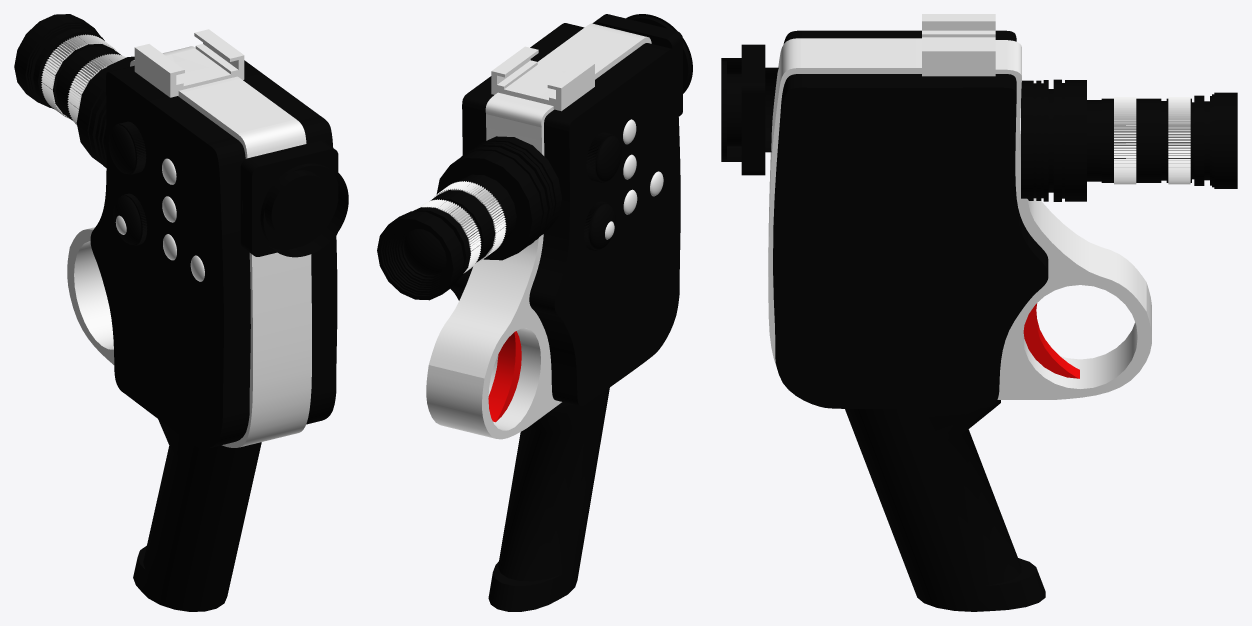
The model's file is camera.glb.
3 renders of one model, left to right at view 1: azimuth 30°, elevation 25°; view 2: azimuth 150°, elevation 25°; view 3: azimuth 270°, elevation 25°, orthographic. The views are drawn at different scales.
Parts seen in each view (by area): view 1: Line002, Line001, Cylinder001, Rectangle001, Line003, Line006, Line005, Star002, Star001, Sphere006, Sphere007, Star003; view 2: Line002, Line001, Cylinder001, Line003, Line006, Line004, Rectangle001, Sphere001, Star001, Star002, Sphere006, Sphere007 (+2 smaller); view 3: Line002, Cylinder001, Line001, Line003, Line006, Rectangle001, Line005, Star002, Star001, Line004.
Part boxes in pixels (<box>): Line002: <box>90,60,337,448</box>; Line001: <box>67,46,311,447</box>; Cylinder001: <box>133,419,261,611</box>; Rectangle001: <box>240,140,338,256</box>; Line003: <box>14,14,134,167</box>; Line006: <box>134,29,244,97</box>; Line005: <box>242,149,348,257</box>; Star002: <box>41,34,118,118</box>; Star001: <box>67,54,126,124</box>; Sphere006: <box>108,125,135,173</box>; Sphere007: <box>113,195,141,244</box>; Star003: <box>115,121,146,174</box>; Line002: <box>450,23,680,406</box>; Line001: <box>426,23,651,439</box>; Cylinder001: <box>488,387,609,611</box>; Line003: <box>377,136,561,300</box>; Line006: <box>491,46,594,111</box>; Line004: <box>488,331,521,422</box>; Rectangle001: <box>592,14,682,116</box>; Sphere001: <box>403,229,446,275</box>; Star001: <box>434,181,506,260</box>; Star002: <box>416,199,481,273</box>; Sphere006: <box>596,135,621,181</box>; Sphere007: <box>589,203,615,249</box>; Line002: <box>773,30,1048,408</box>; Cylinder001: <box>845,400,1045,611</box>; Line001: <box>768,38,1151,399</box>; Line003: <box>1021,79,1237,201</box>; Line006: <box>922,14,995,76</box>; Rectangle001: <box>741,44,765,175</box>; Line005: <box>721,58,778,161</box>; Star002: <box>1168,97,1190,184</box>; Star001: <box>1114,97,1136,184</box>; Line004: <box>1023,303,1079,378</box>.
Size of the model in its own units: 1.46 by 5.73 by 4.78.
